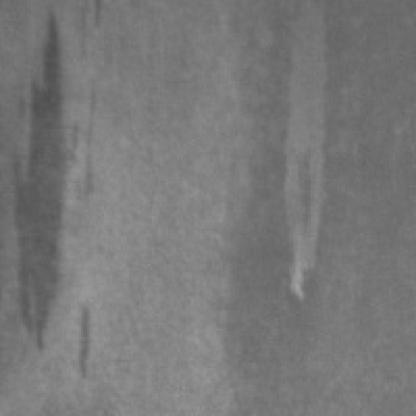inclusion: (8, 8, 78, 358), (73, 295, 107, 385)
